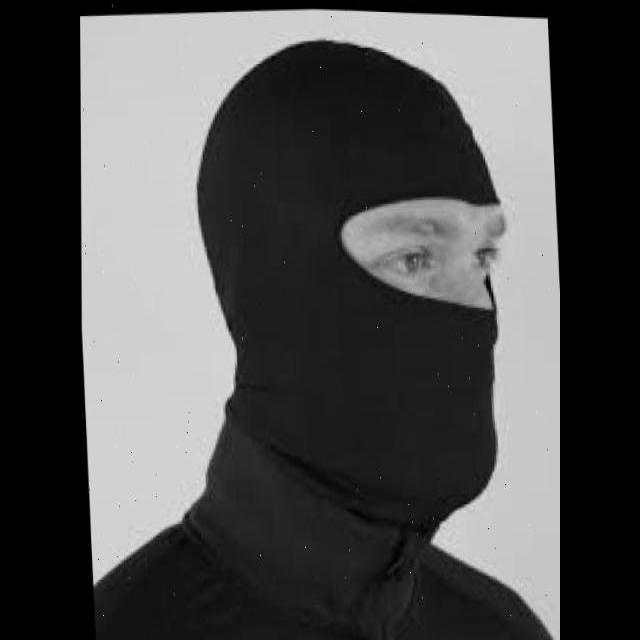6_pasamontana: (187, 38, 505, 640)
